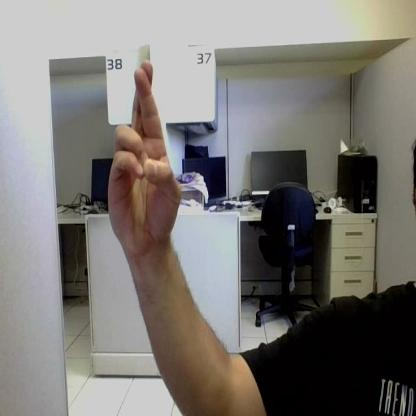R: (108, 60, 180, 244)
